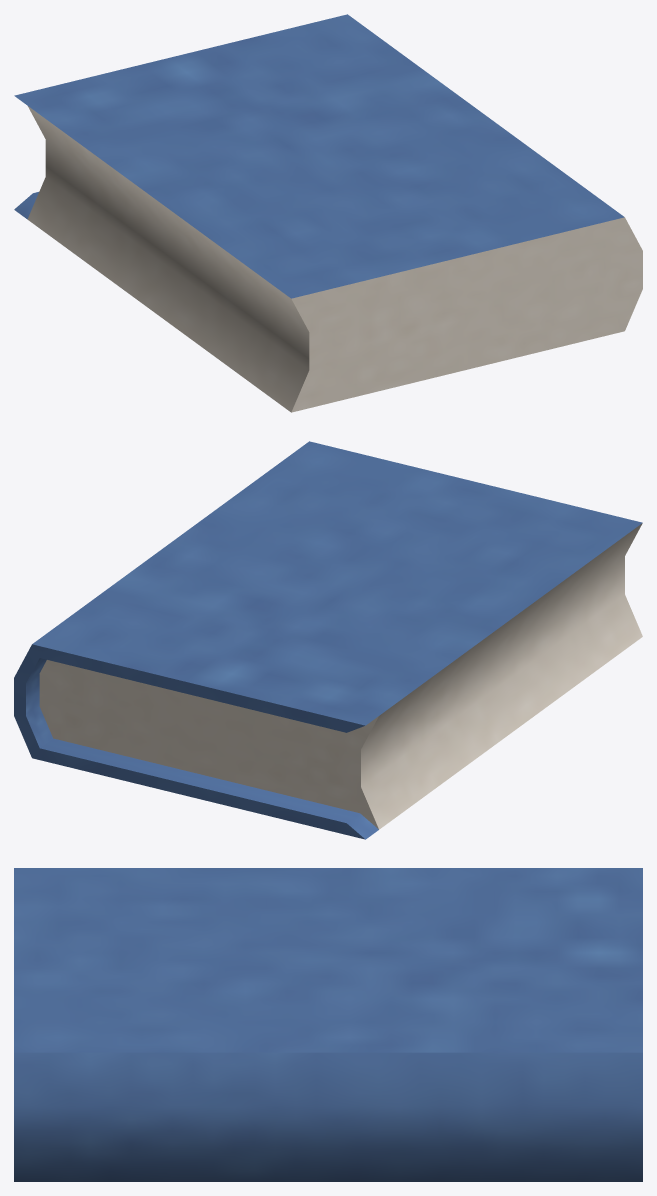
Rendered from SM_Book_03.fbx.
3 views of the same model, one above another, from view 1: azimuth 30°, elevation 25°; view 2: azimuth 150°, elevation 25°; view 3: azimuth 270°, elevation 25° (orthographic). The views are drawn at different scales.
Parts seen in each view (by area): view 1: SM_Book_01; view 2: SM_Book_01; view 3: SM_Book_01.
Boxes of the visible parts, x1,y1,x2,y2 form: SM_Book_01: (14,14,642,412); SM_Book_01: (14,441,642,839); SM_Book_01: (14,868,642,1181).
Size of the model in its own units: 23.04 by 7.13 by 31.46.
